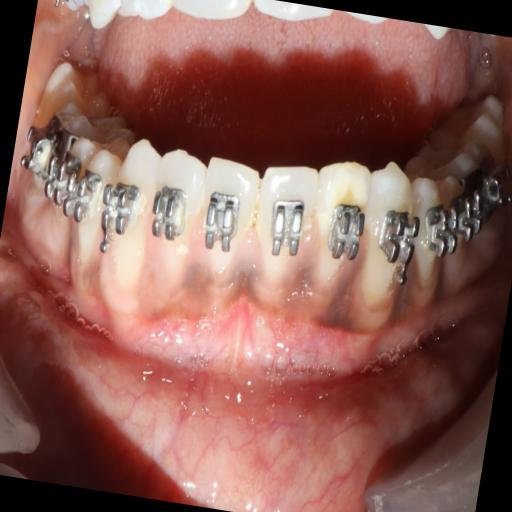correct_brace: (260, 183, 312, 265), (320, 188, 370, 270), (195, 183, 246, 257), (372, 197, 424, 269), (98, 172, 138, 244), (150, 183, 190, 243)
incorrect_brace: (302, 160, 376, 288), (144, 148, 210, 272)
